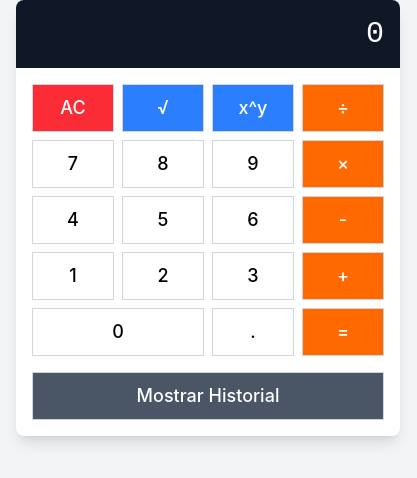
Calculator Component › muestra resultado parcial al escribir una operación
Click the button with test id "btn-2": [163, 276] box [122, 252, 204, 300]
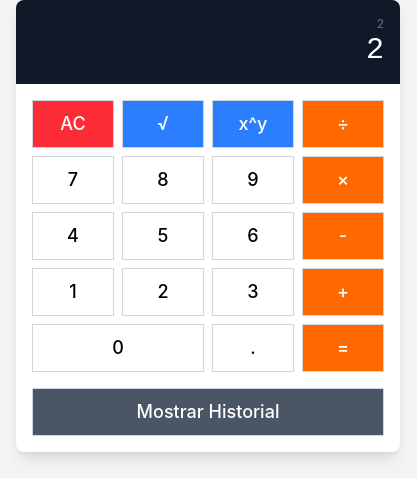
Click the button with test id "btn-add": [343, 292] box [302, 268, 384, 316]
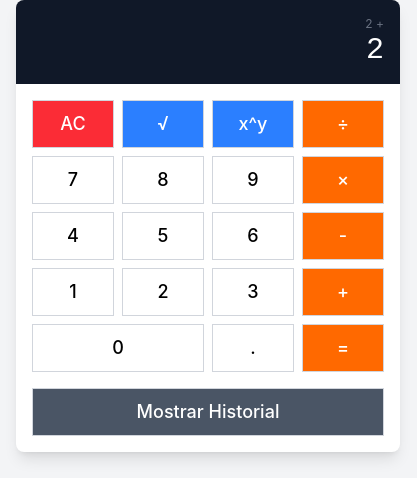
Click the button with test id "btn-3": [253, 292] box [212, 268, 294, 316]
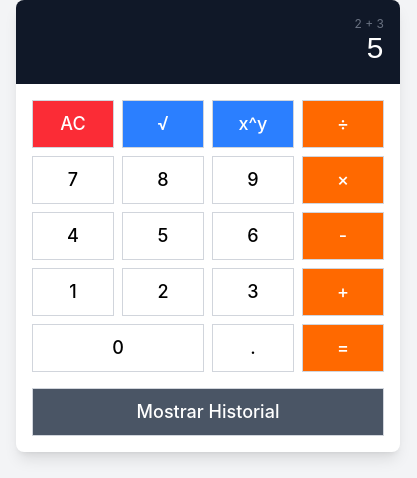
Now the text with test id "calculator-display" reads "5", box [366, 33, 384, 67]
